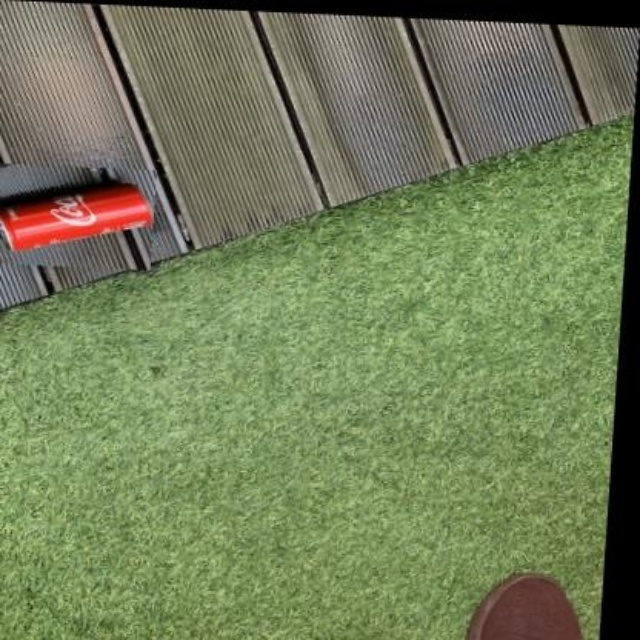trash: (0, 185, 151, 249)
